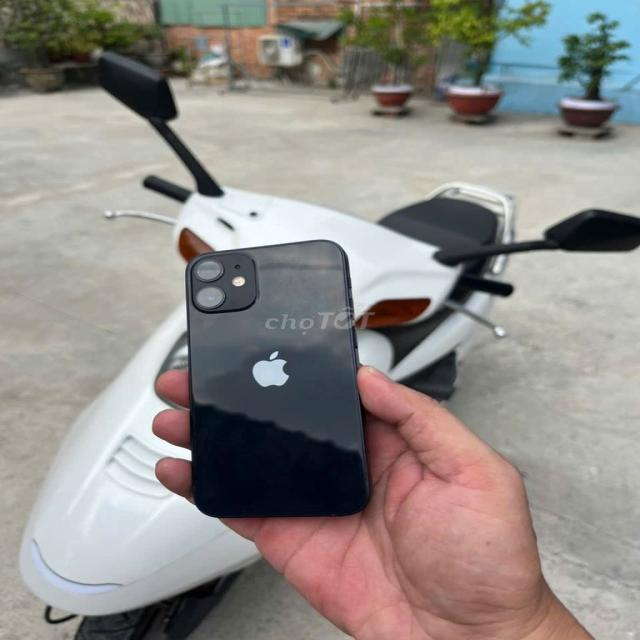gen_12_13: (180, 234, 387, 519)
